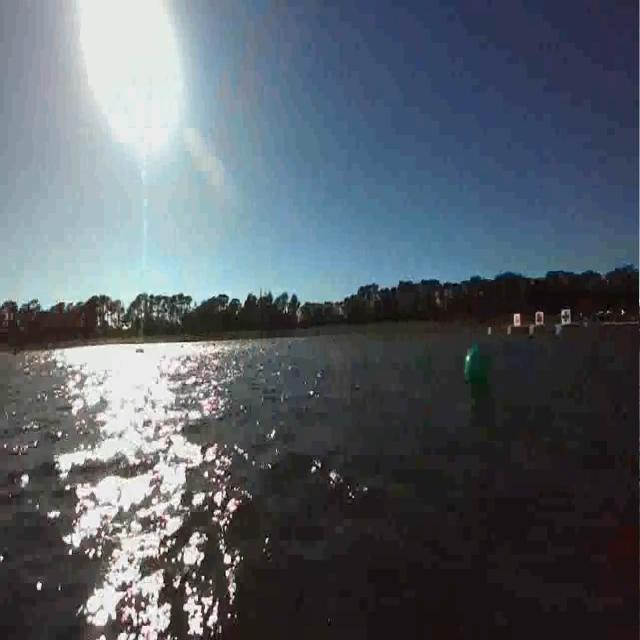green-buoy: (465, 349, 493, 384)
